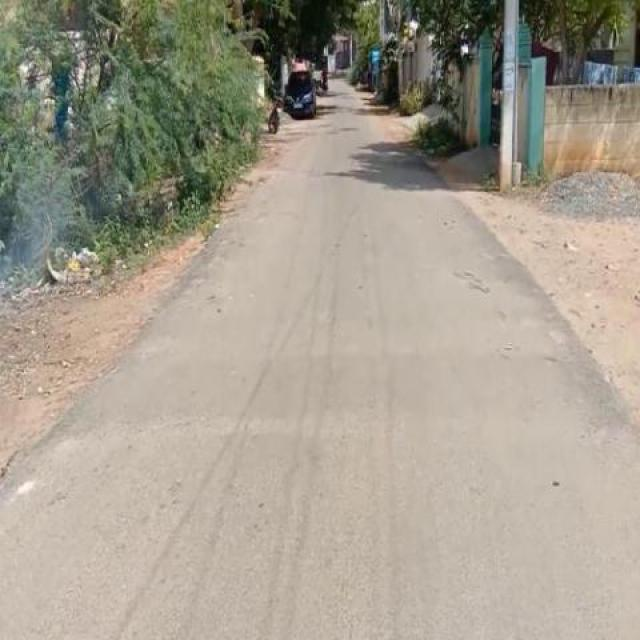Unmarked Bump: (55, 344, 630, 442)
